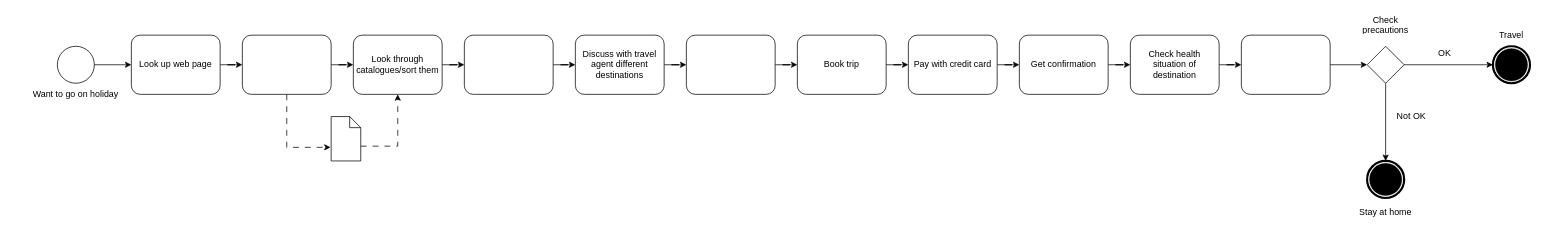
Image size: 1553x232. Some labels were removed from this diagram. Here are the shapes that lost their labels. From the top down, the centre of each, then its label:
At point 286,64: "Download catalogues".
At point 508,64: "Call travel agent".
At point 730,64: "Make choice of where to travel".
At point 1285,64: "Contact travel agent".
